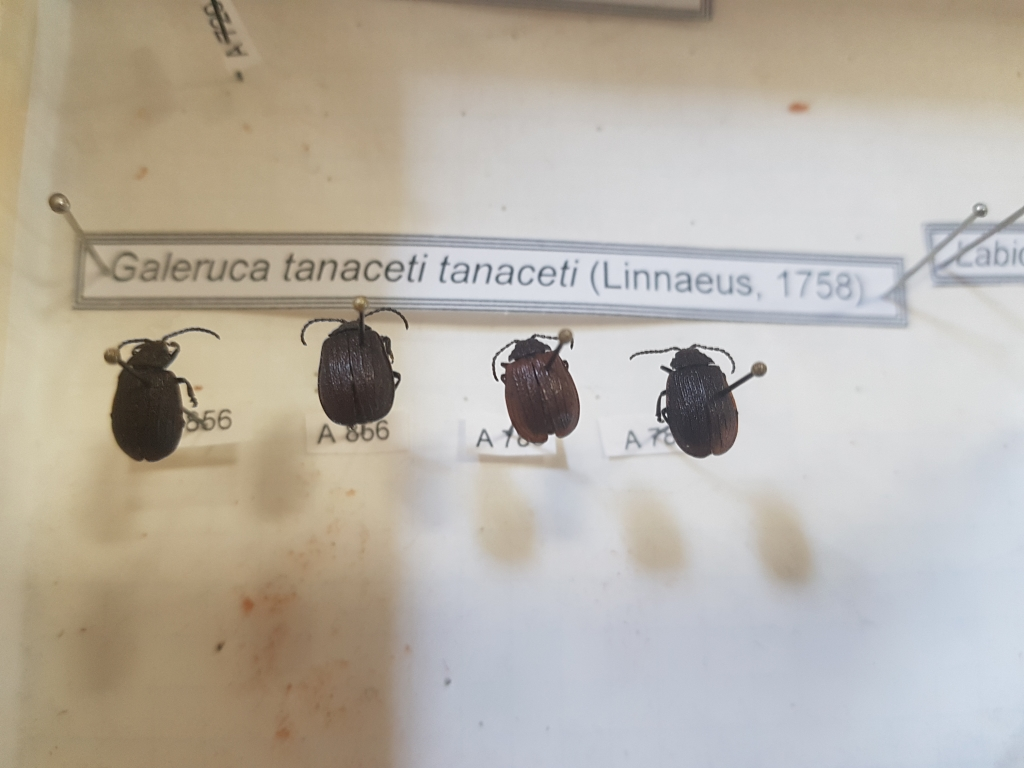Galeruca_tanaceti: (101, 326, 222, 464), (298, 301, 409, 428), (627, 337, 740, 458), (484, 333, 583, 444)
